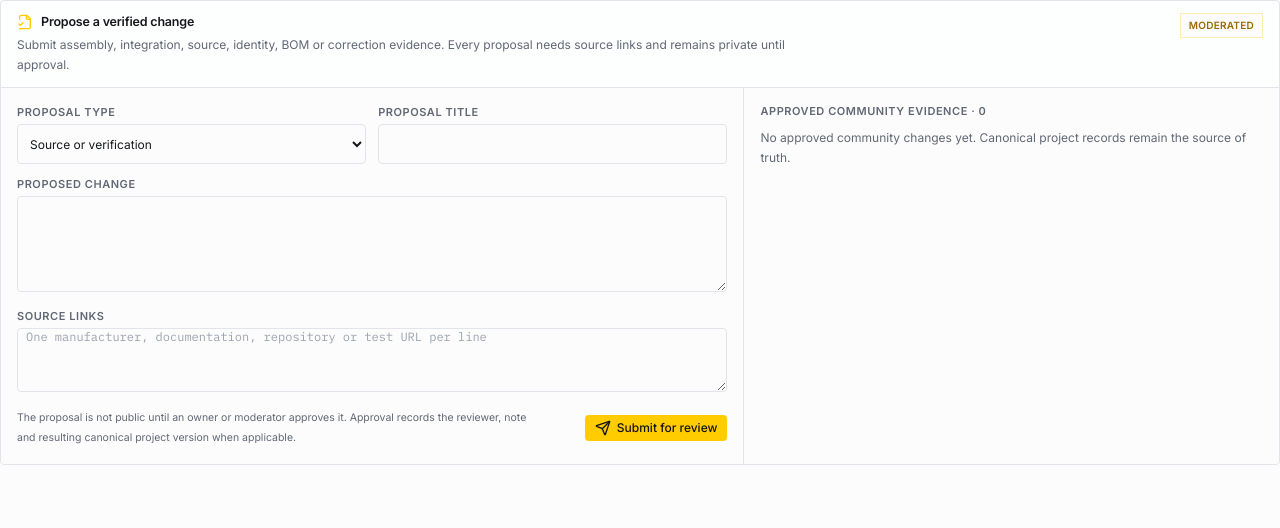
Test case: ProjectProposalPanel › submits a source-linked structured proposal into moderation
Select "Assembly step" in the dropdown labelled "Proposal type" at (192, 144), box x1=17 y1=124 x2=366 y2=164
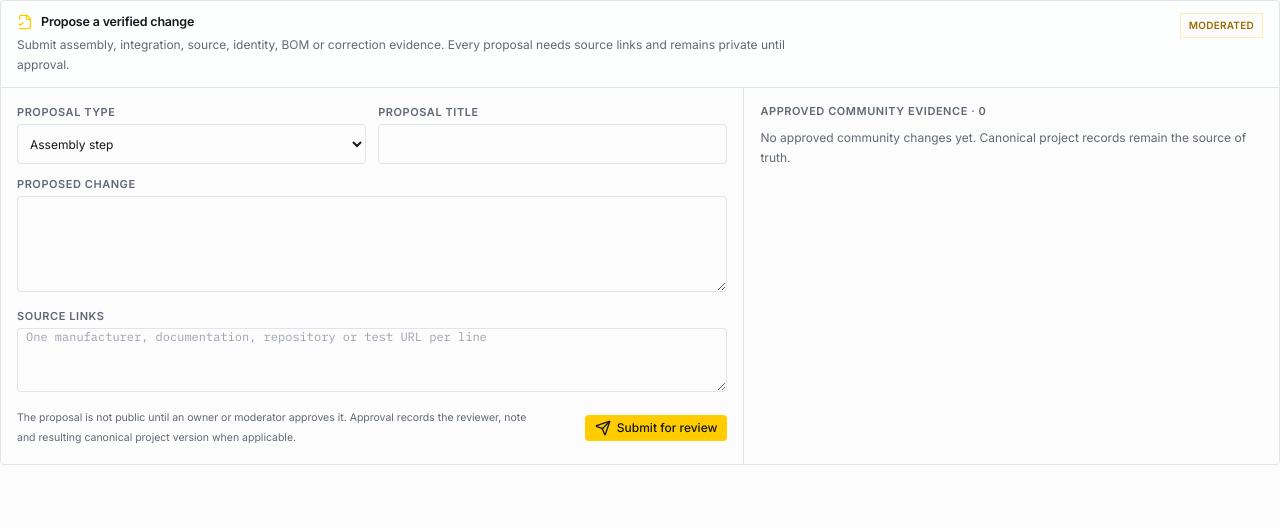
Type "Torque the hip fasteners" into the field labelled "Proposal title" at (553, 144), box x1=378 y1=124 x2=727 y2=164
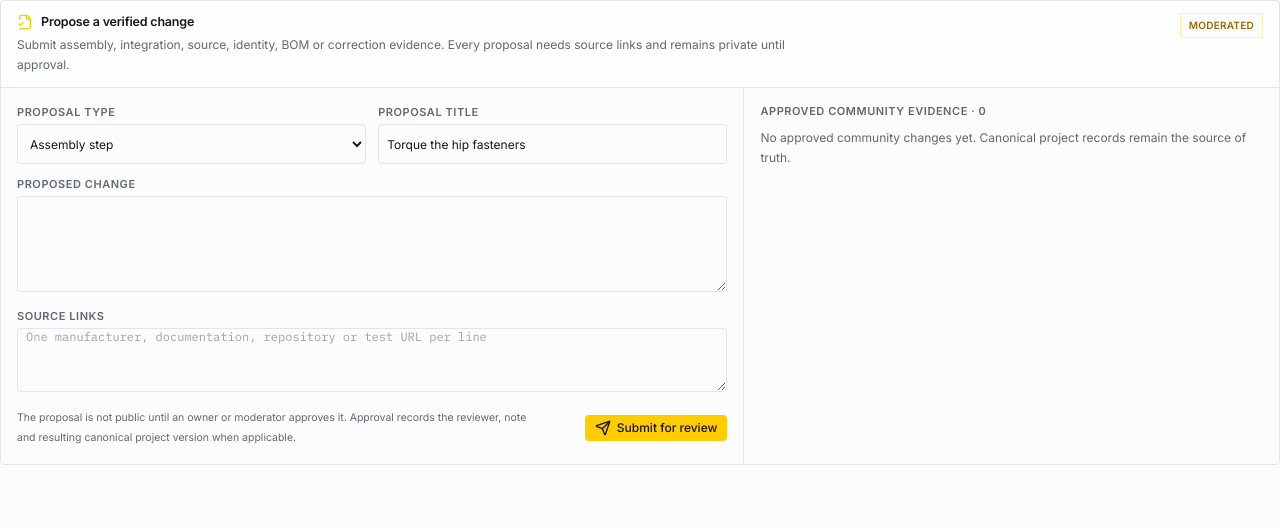
Type "Add the documented torque verification step after alignment." into the text box labelled "Proposed change" at (372, 244), box x1=17 y1=196 x2=727 y2=292
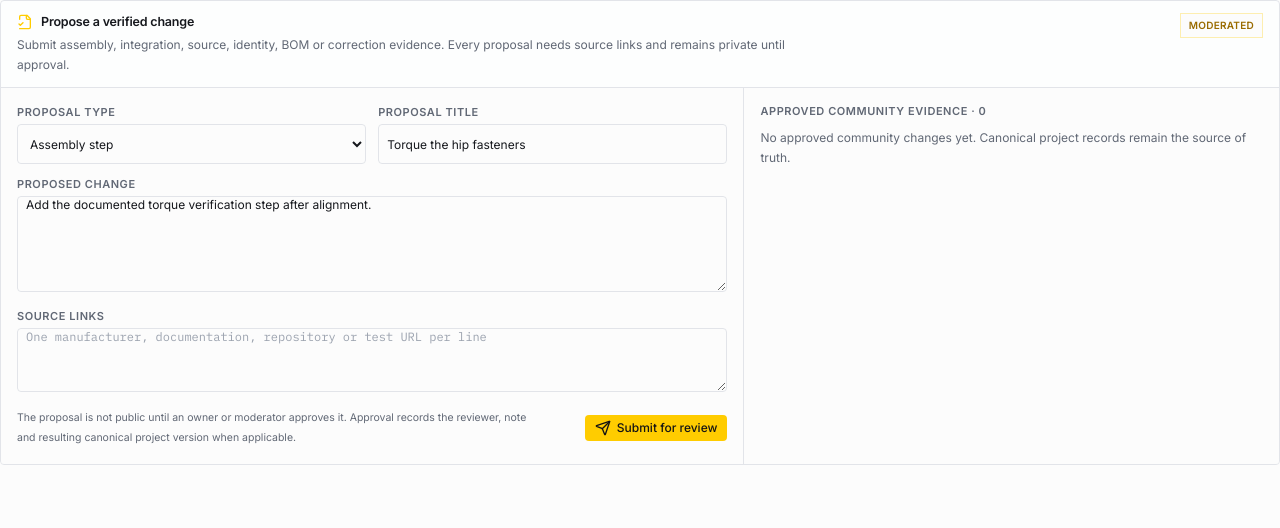
Replace the text in the text box labelled "Source links" with "https://manufacturer.example/guide" at (372, 360), box x1=17 y1=328 x2=727 y2=392
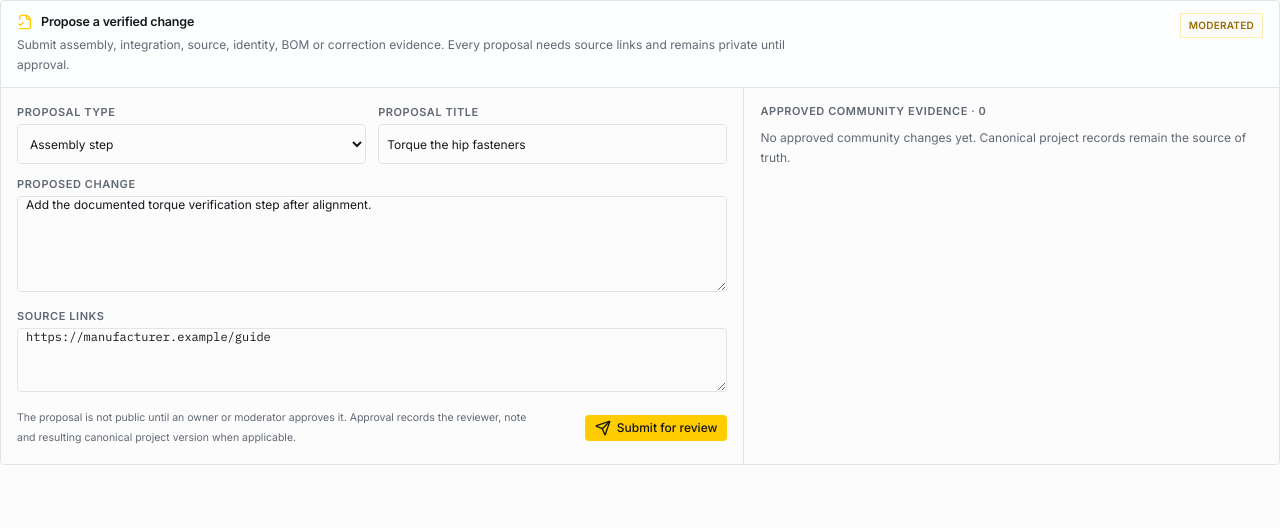
Click the button "Submit for review" at (656, 428), box x1=585 y1=415 x2=727 y2=441
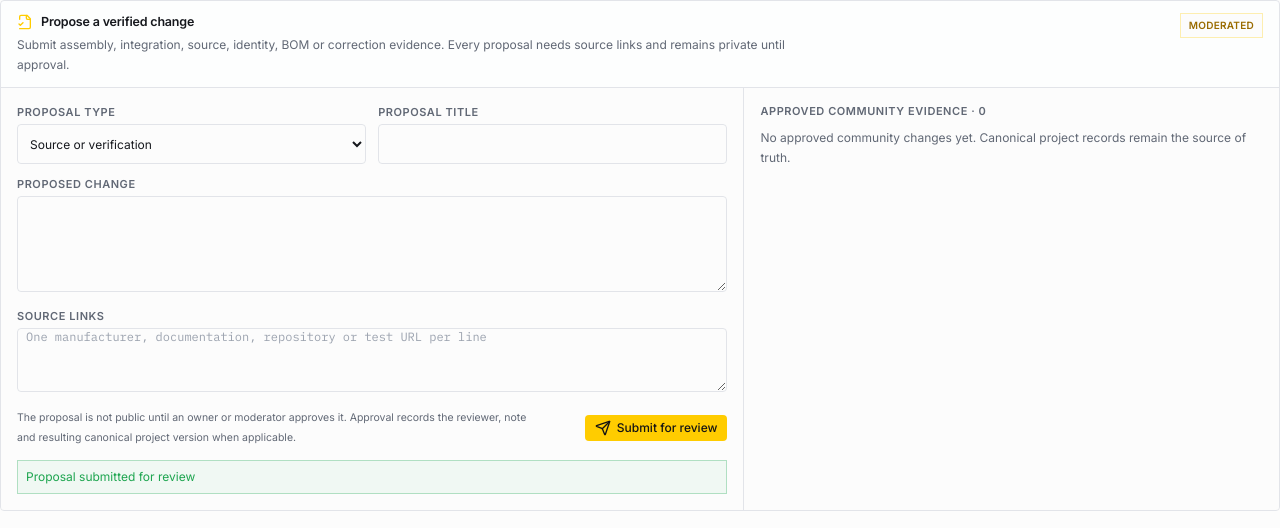
Expected: the text "not public until an owner or moderator approves it" is shown, x1=17 y1=411 x2=526 y2=444
Expected: the text "Proposal submitted for review" is shown, x1=17 y1=460 x2=727 y2=494
